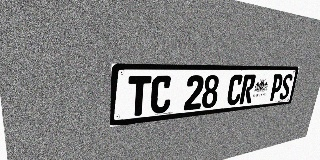2: (184, 75, 205, 110)
8: (201, 75, 221, 109)
C: (150, 75, 173, 114), (226, 74, 244, 106)
P: (268, 74, 284, 101)
R: (239, 74, 256, 104)
S: (278, 74, 293, 100)
T: (127, 76, 152, 117)
